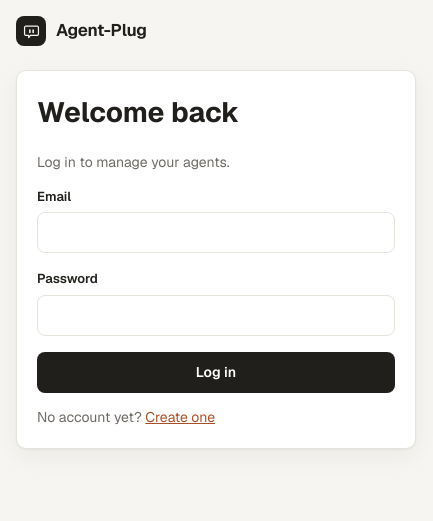
LoginView › shows error message on failed login
The image size is (433, 521).
Type "a@b.c" into the field with id "email". click: (216, 233)
box: [37,212,395,253]
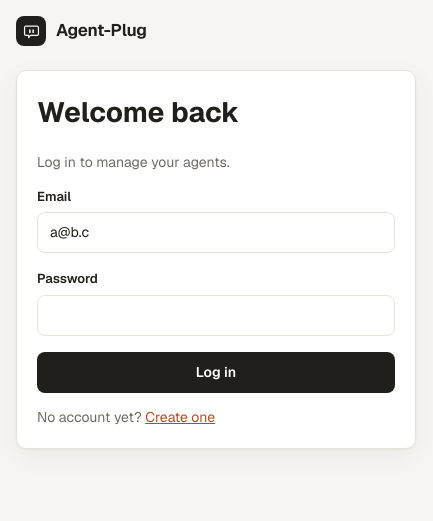
Type "wrong" into the password field labelled "Password". click: (216, 315)
box: [37,295,395,336]
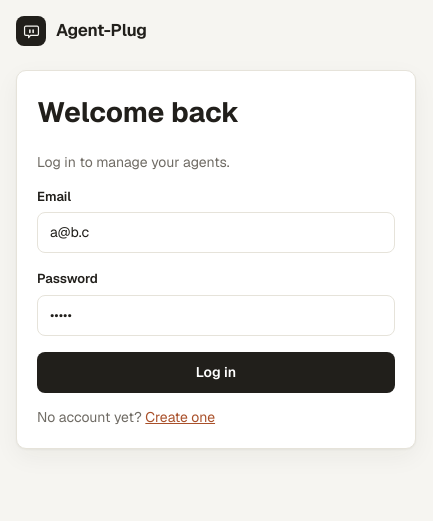
Submit the form, box [37,187,395,393]
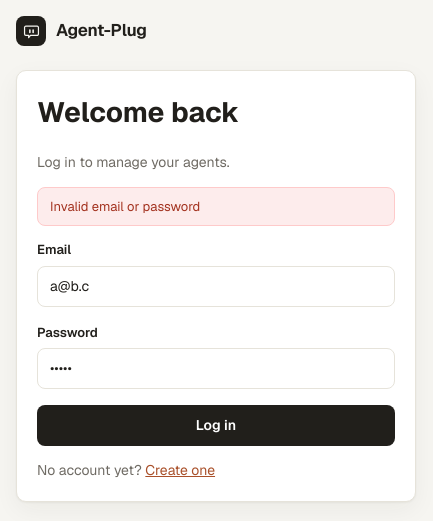
Check: the text "Invalid email or password" is shown, box [37,187,395,226]
